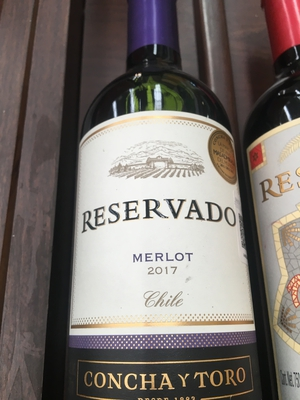reservado merlot: (67, 19, 255, 400)
